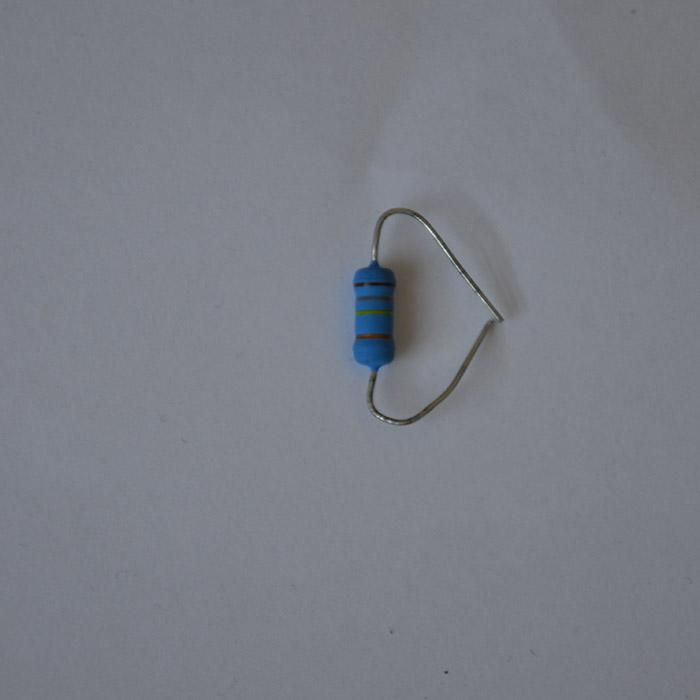resistor: (352, 260, 396, 371)
